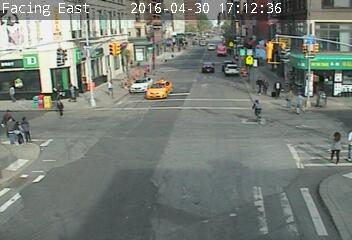neg: (166, 117, 192, 151), (215, 190, 239, 222), (253, 184, 274, 212), (204, 131, 225, 158), (247, 97, 267, 124), (126, 116, 146, 142), (161, 187, 181, 213), (209, 26, 228, 51), (161, 67, 179, 91), (75, 100, 93, 124), (115, 168, 133, 192), (70, 148, 88, 171), (25, 29, 42, 53), (104, 17, 121, 40), (287, 187, 299, 203), (78, 31, 90, 47), (156, 27, 168, 42), (200, 88, 209, 100)
pos: (320, 127, 346, 161), (278, 81, 302, 113), (291, 88, 310, 115), (49, 93, 68, 118), (1, 115, 18, 141), (15, 115, 33, 139), (100, 77, 117, 100), (45, 76, 62, 98), (8, 120, 24, 140), (269, 78, 283, 98), (63, 81, 77, 100), (1, 111, 14, 130), (5, 83, 18, 100), (254, 74, 266, 91), (260, 78, 272, 94)
